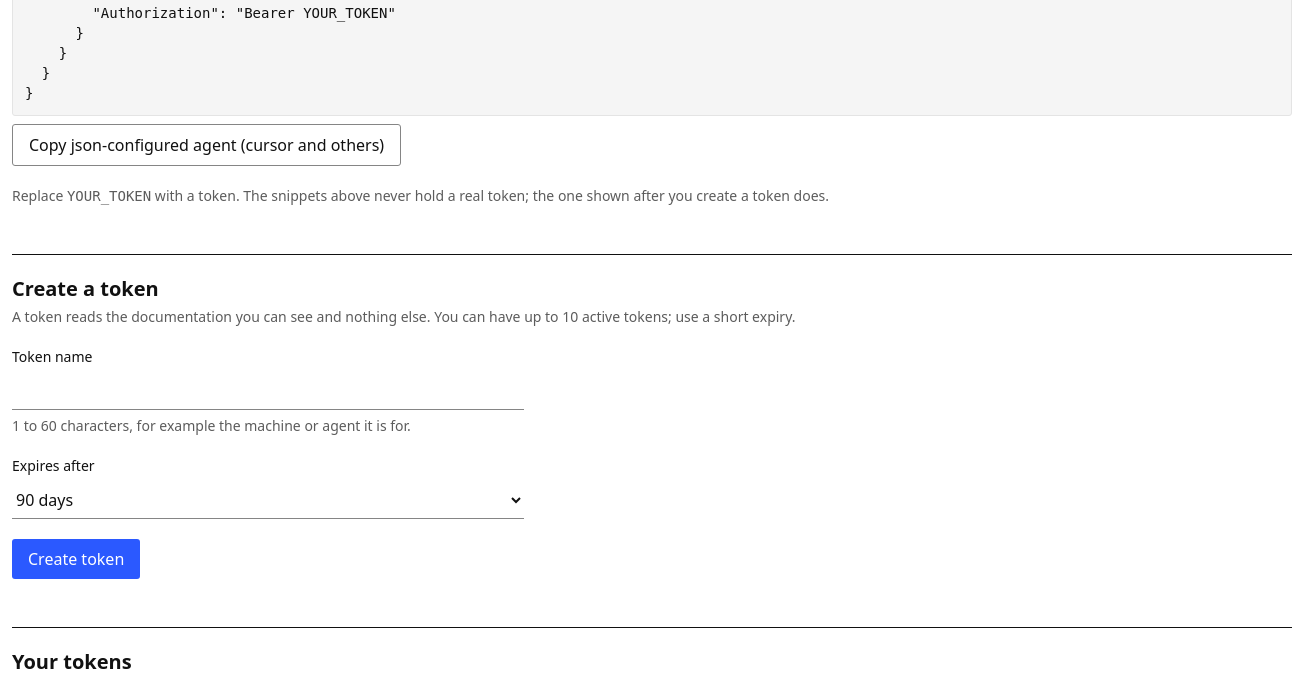
Scenario: AgentAccess: creating a token › shows the limit message when ten tokens are active
(page scrolled)
Type "one more" into the field labelled "Token name" at (268, 392), box [12, 373, 524, 410]
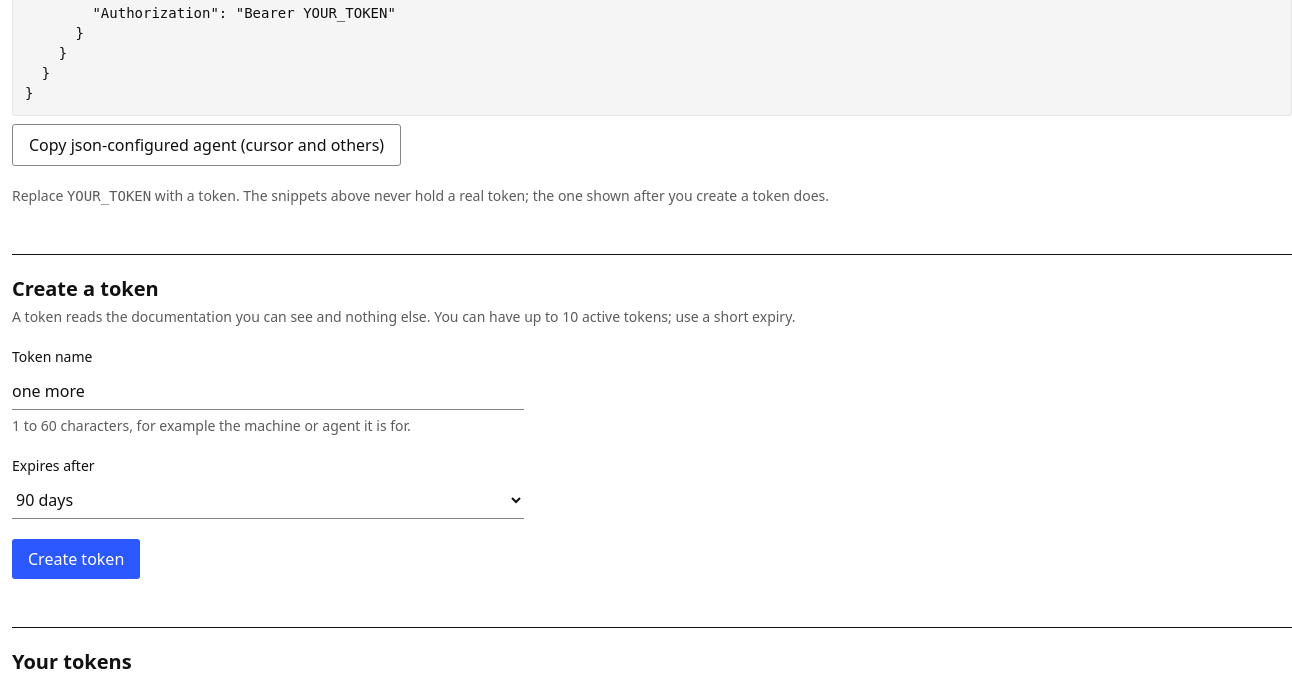
Click the button "Create token" at (76, 559), box [12, 539, 140, 579]
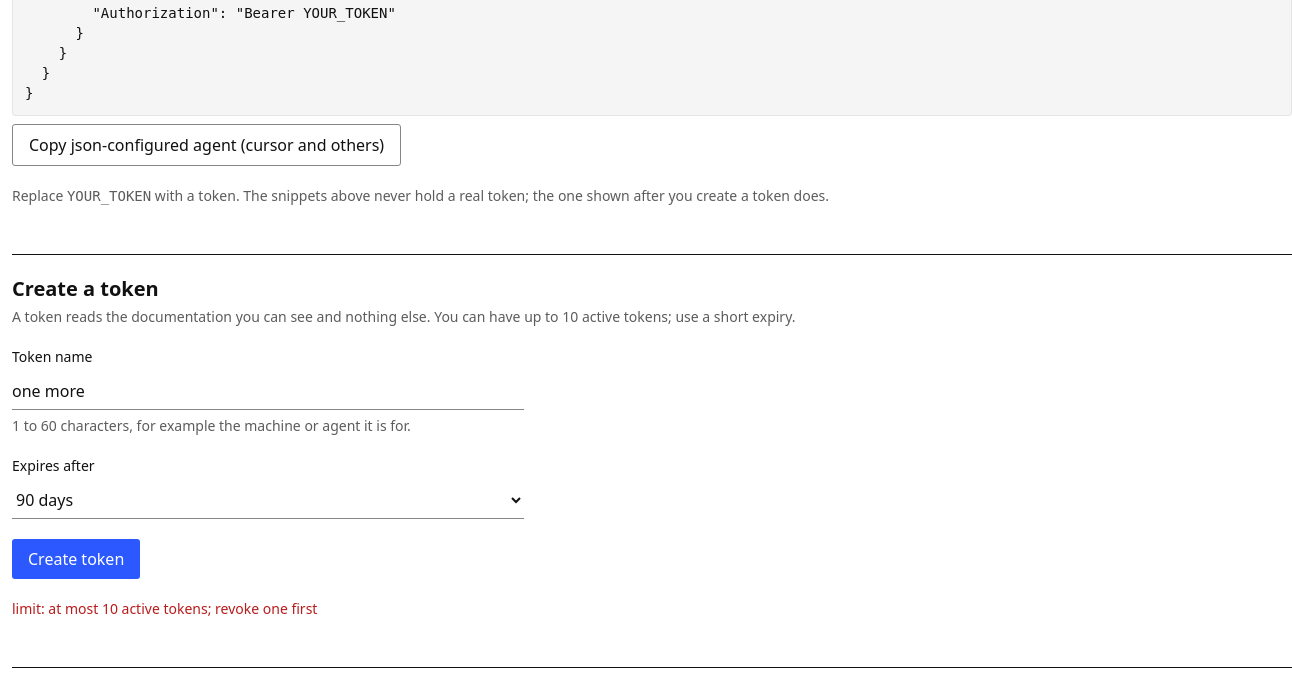
Now the message with test id "agent-access-error" shows "limit", box [12, 599, 317, 618]
